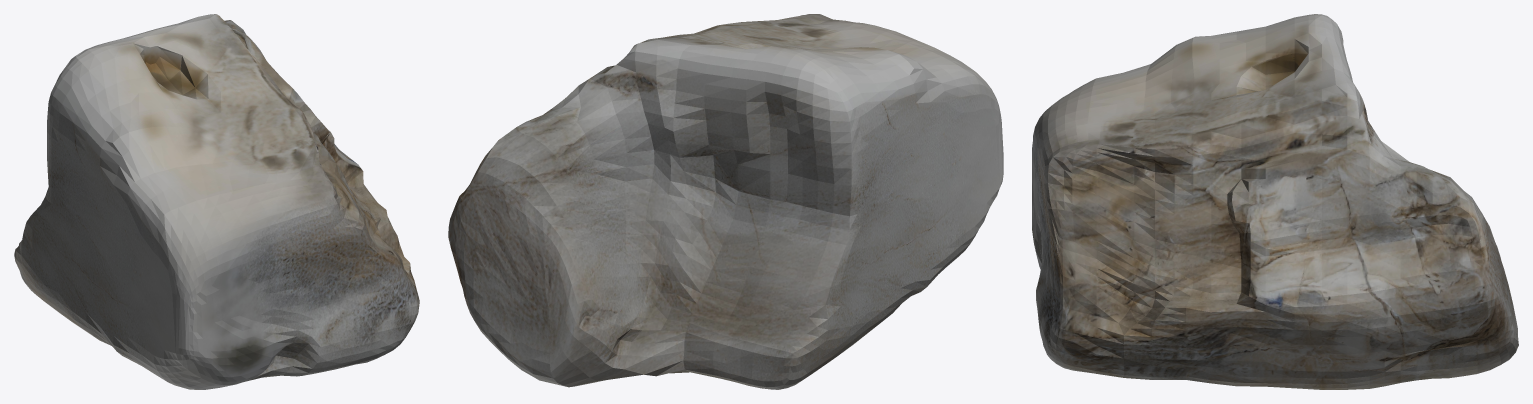
File: silicified_wood_001.glb
The picture shows the model from 3 angles, left to right: view 1: azimuth 30°, elevation 25°; view 2: azimuth 150°, elevation 25°; view 3: azimuth 270°, elevation 25°; orthographic projection. The views are drawn at different scales.
Visible parts, largest first — view 1: tripo_node_1d33f3fd-70c9-4040-8991-f7507529e0da; view 2: tripo_node_1d33f3fd-70c9-4040-8991-f7507529e0da; view 3: tripo_node_1d33f3fd-70c9-4040-8991-f7507529e0da.
Boxes of the visible parts, box(x1,y1,x2,y2) form: tripo_node_1d33f3fd-70c9-4040-8991-f7507529e0da: box(14, 14, 419, 389); tripo_node_1d33f3fd-70c9-4040-8991-f7507529e0da: box(448, 14, 1003, 389); tripo_node_1d33f3fd-70c9-4040-8991-f7507529e0da: box(1032, 14, 1518, 389).
Size of the model in its own units: 0.6835 by 0.6177 by 0.9485.
Materials: 1 (1 with a texture image).
